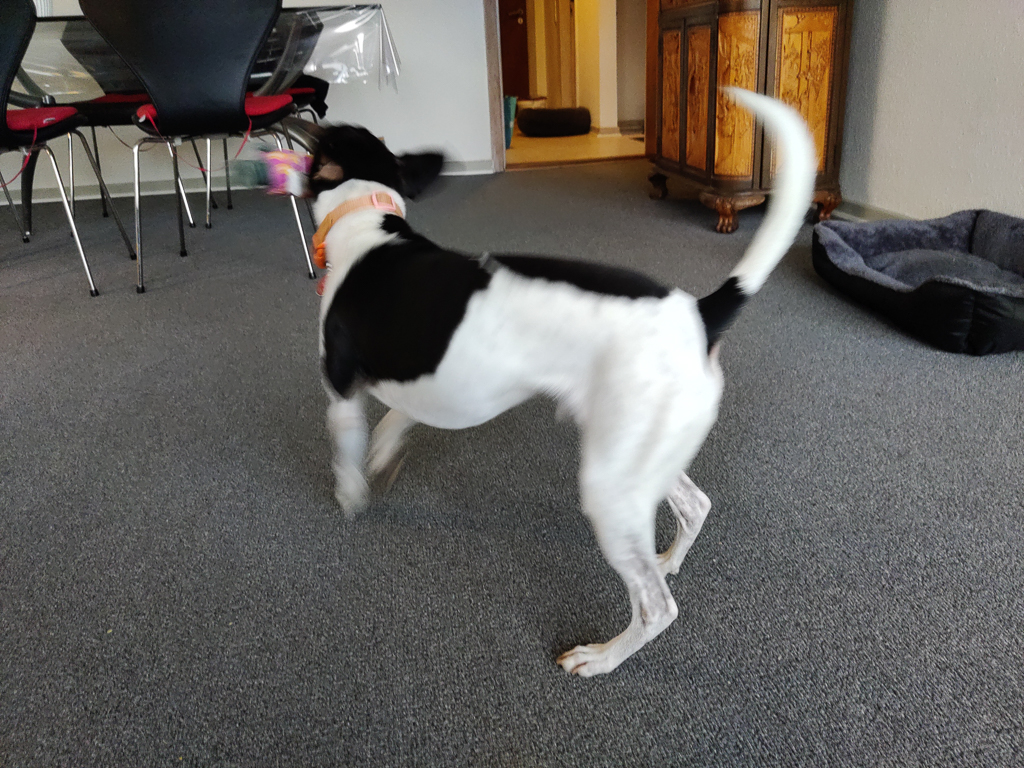Dog: (245, 75, 844, 684)
Humanoid: (212, 142, 340, 203)
